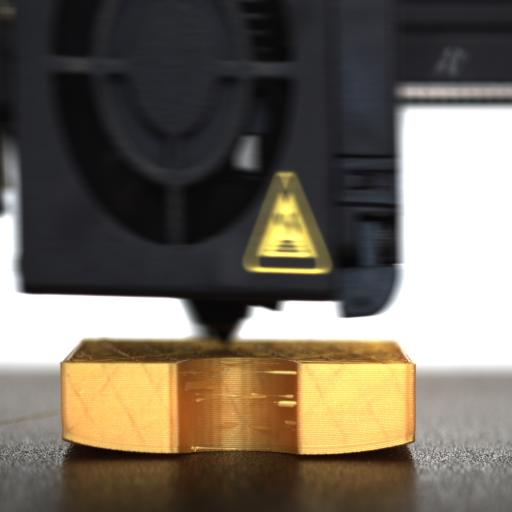warp: (292, 430, 426, 459), (61, 434, 184, 454)
